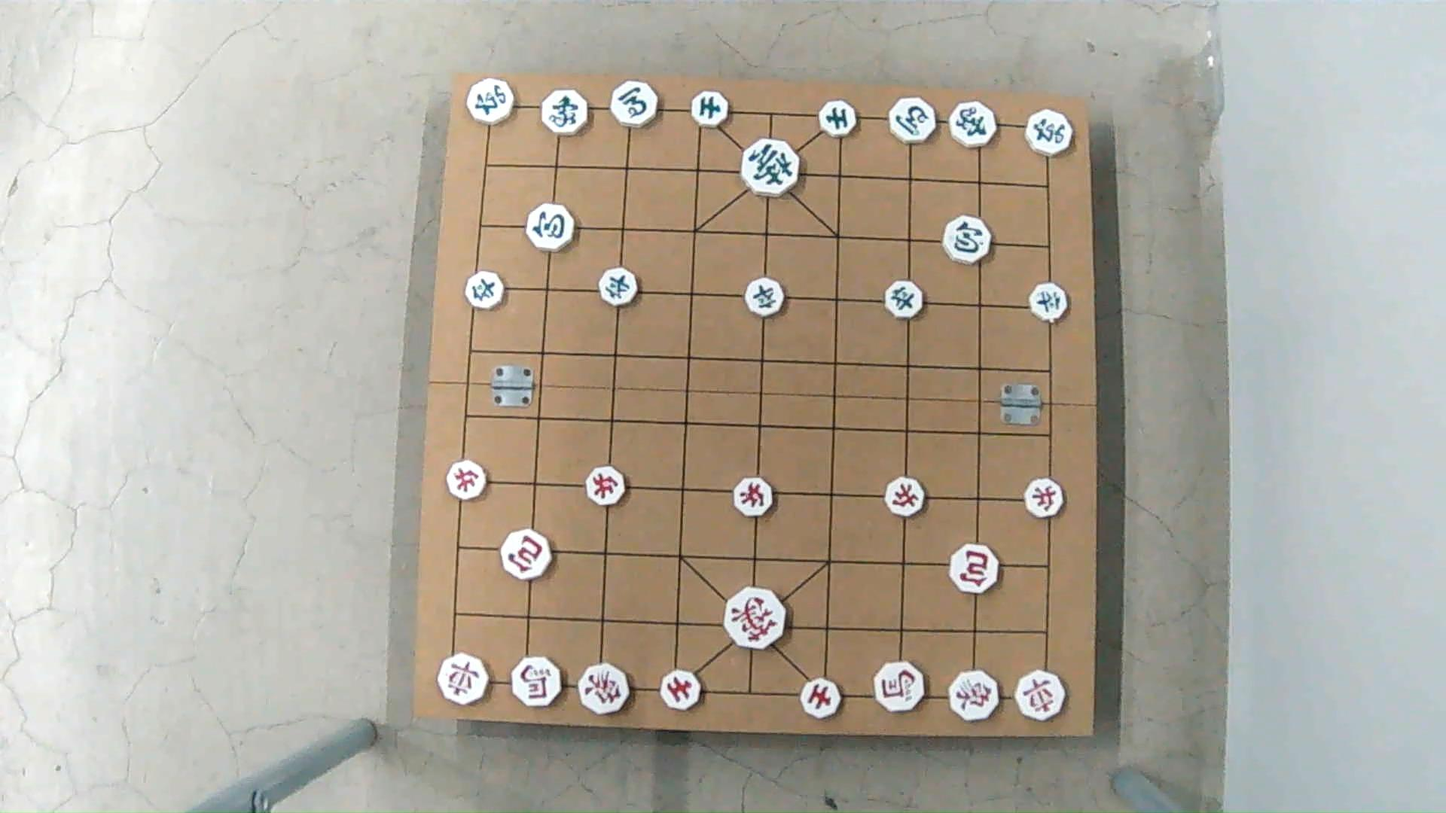cha_green: (466, 80, 518, 122), (1024, 113, 1074, 155)
cha_red: (435, 656, 490, 704), (1014, 674, 1069, 721)
jol_green: (744, 280, 789, 315), (599, 269, 642, 304), (883, 282, 925, 317), (1028, 283, 1068, 319), (465, 273, 506, 307)
jol_red: (884, 477, 928, 516), (731, 478, 776, 514), (1023, 481, 1066, 517), (444, 462, 488, 497), (584, 469, 627, 504)
ma_green: (608, 82, 660, 124), (887, 99, 938, 140)
ma_red: (510, 658, 566, 707), (871, 664, 926, 711)
po_green: (523, 206, 576, 250), (941, 219, 992, 261)
po_red: (499, 532, 554, 577), (949, 549, 1002, 595)
sa_green: (690, 92, 733, 125), (817, 102, 857, 136)
sa_red: (659, 668, 703, 708), (796, 681, 843, 717)
sang_green: (950, 101, 1000, 148), (538, 92, 590, 133)
sang_red: (578, 661, 629, 713), (953, 670, 1002, 720)
wang_green: (739, 139, 801, 191)
wang_red: (721, 586, 789, 648)
